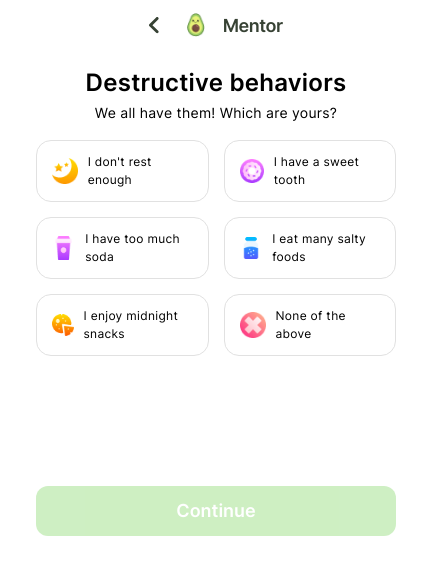
Scenario: Tests for Bevaviors page › continue button must route to next page
Click the element with test id "behavior-card" showing "I don't rest enough": point(122, 171) [36,140,208,202]
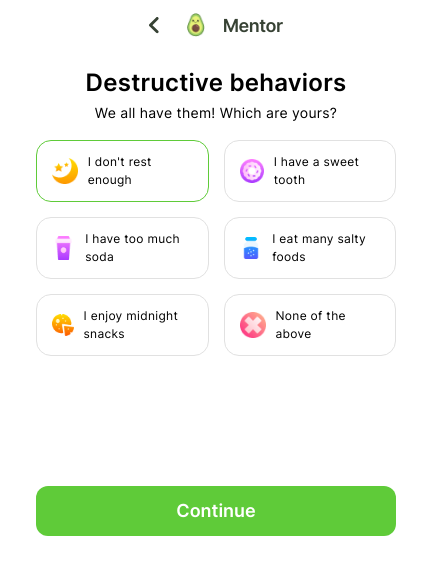
Result: the button with test id "continue" is enabled
Click the button with test id "continue": point(216, 511) [36,486,396,536]
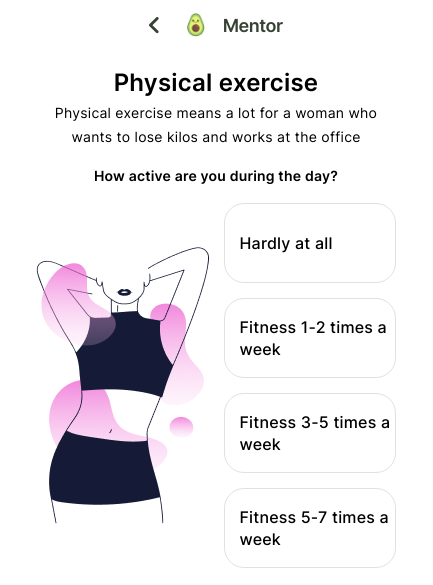
Result: the element with test id "exercise" is shown
